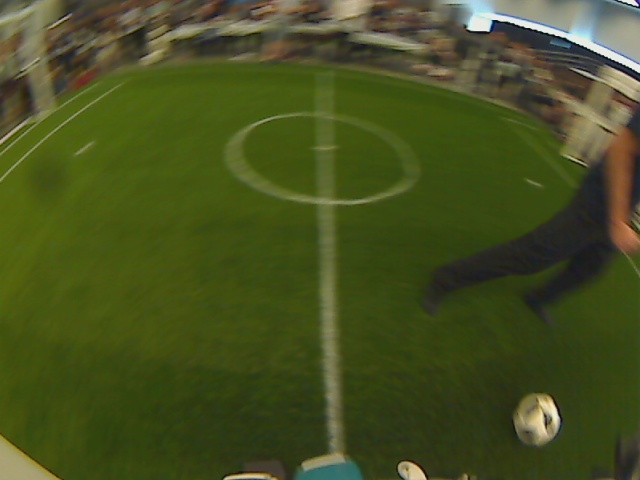ball: (511, 393, 561, 447)
